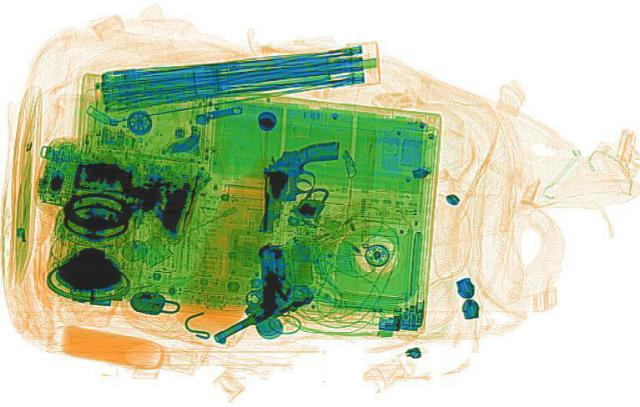Gun: (152, 240, 336, 343), (260, 140, 340, 231)
